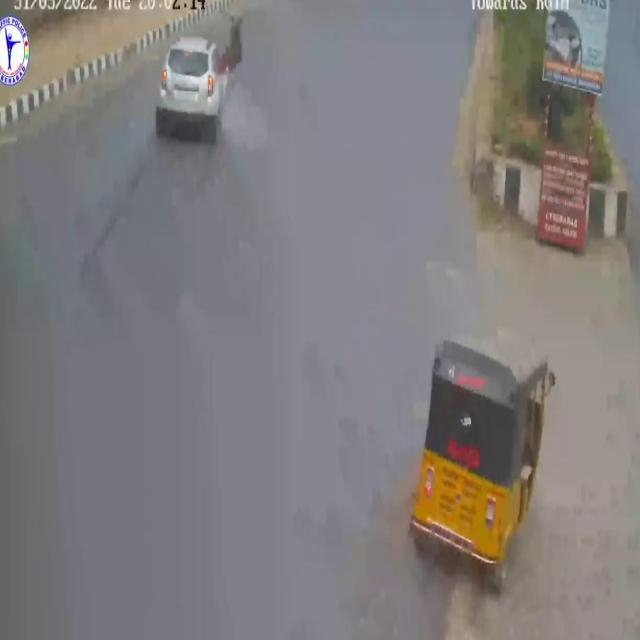accident: (152, 8, 248, 164)
